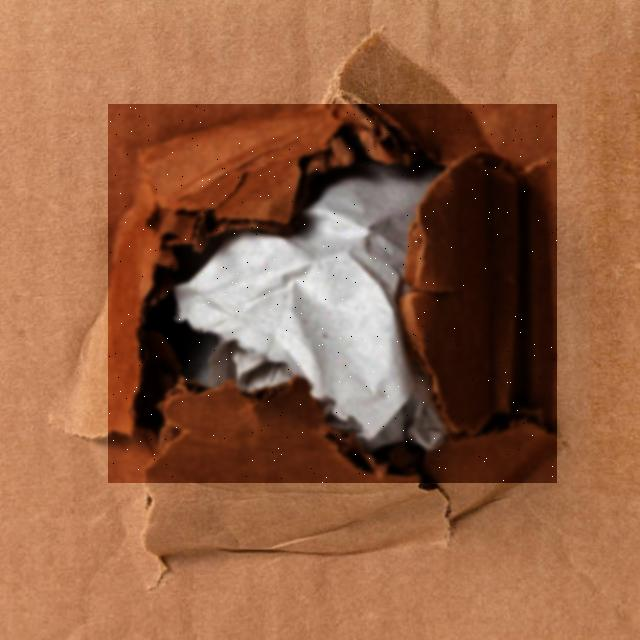tear: (108, 104, 557, 483)
